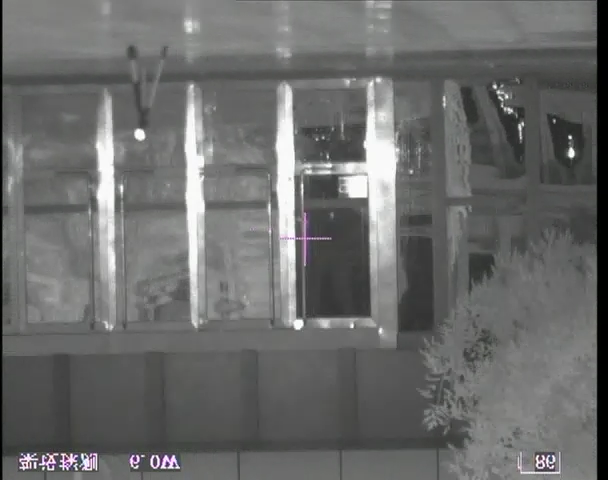my: (133, 127, 146, 143)
